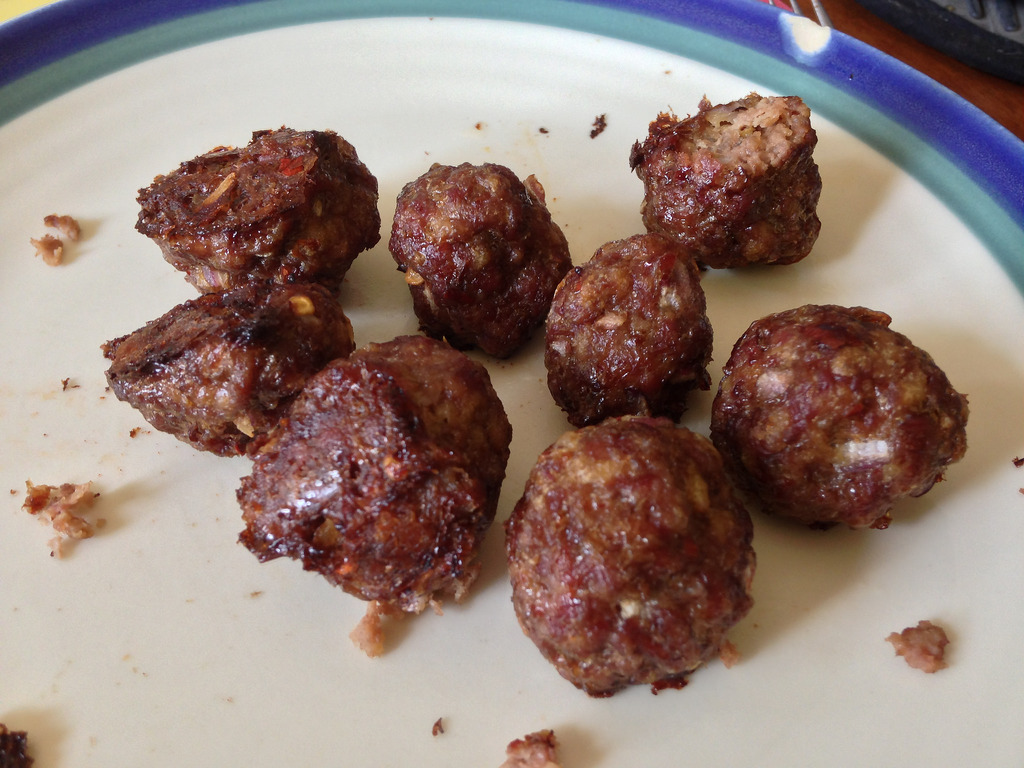meatballs: (125, 83, 968, 677)
